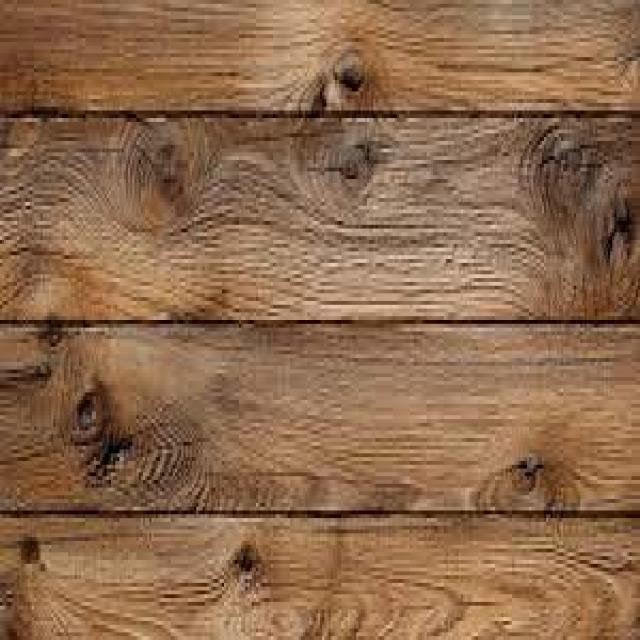have-wooden-eyes: (300, 51, 375, 113), (71, 382, 111, 443), (510, 455, 544, 481)
perfect-wooden-plate: (0, 119, 640, 318), (0, 518, 640, 638)
